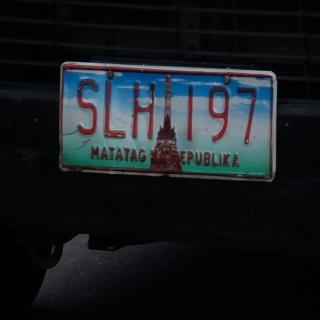license: (60, 64, 278, 183)
